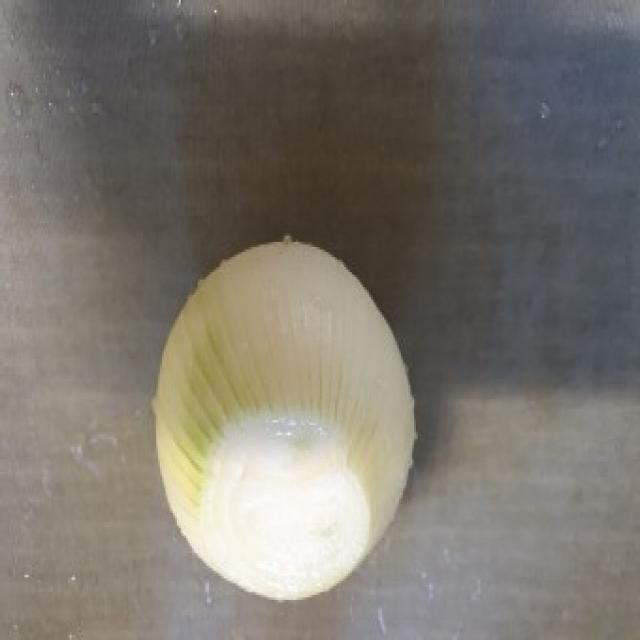Onion: (152, 237, 414, 590)
